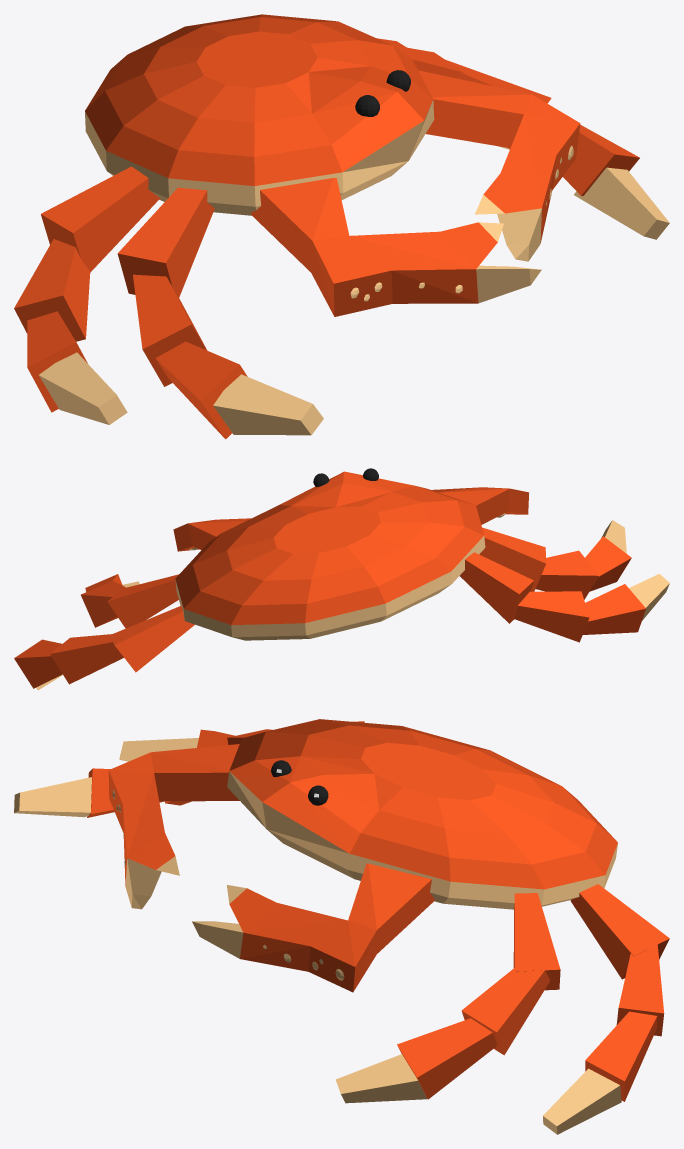
Rendered from crab.glb.
The picture shows the model from 3 angles, top to bottom: view 1: azimuth 30°, elevation 25°; view 2: azimuth 150°, elevation 25°; view 3: azimuth 270°, elevation 25°; orthographic projection. The views are drawn at different scales.
Parts seen in each view (by area): view 1: Node; view 2: Node; view 3: Node.
Boxes of the visible parts, left/top/right/bottom form: Node: left=14, top=14, right=669, bottom=439; Node: left=14, top=468, right=669, bottom=690; Node: left=14, top=719, right=669, bottom=1134.
Bounding box in the file's own units: 0.6944 × 0.2445 × 0.6342.
